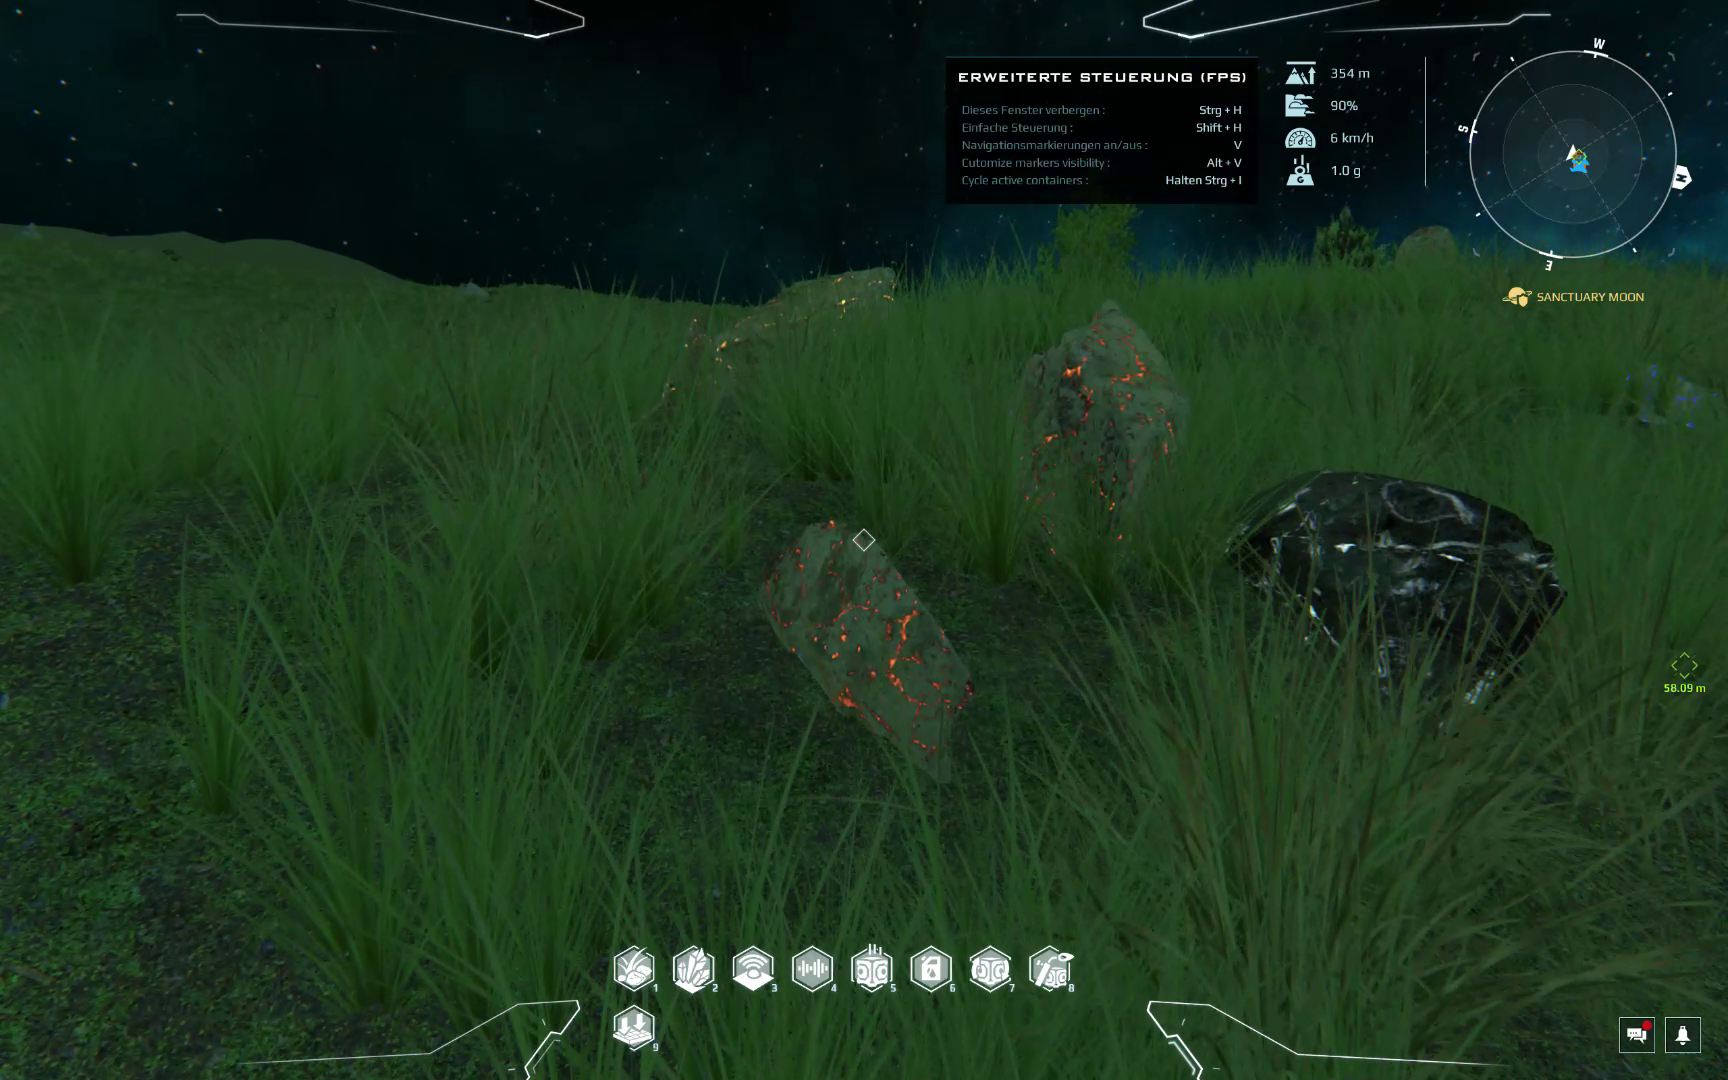Ore: (1228, 464, 1568, 708), (751, 515, 977, 784), (1023, 306, 1191, 569), (724, 266, 898, 386), (638, 314, 710, 458)
